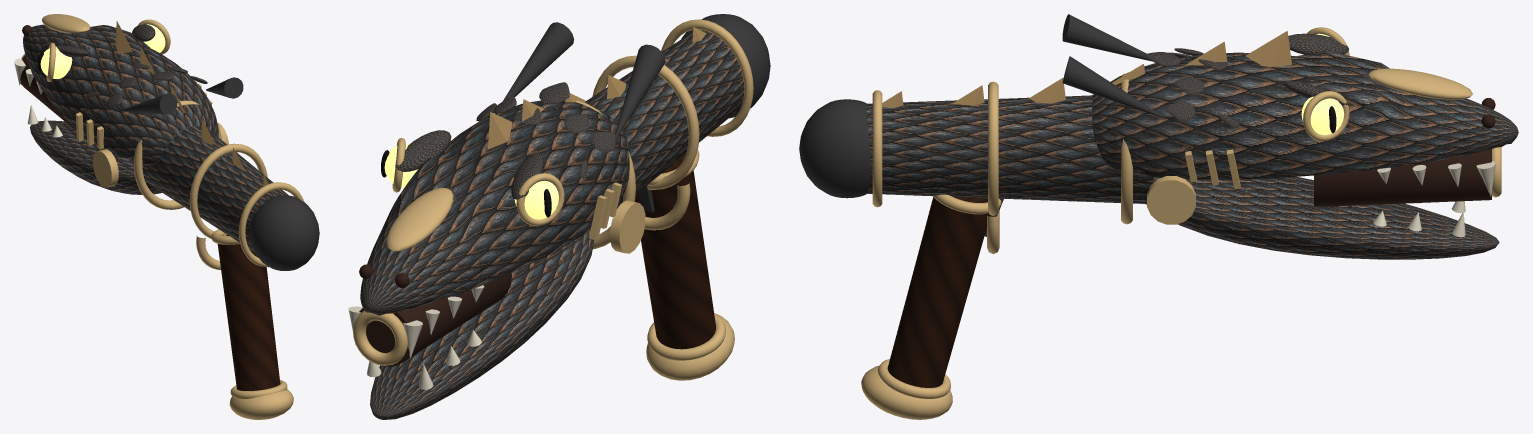
The model's file is wyrmspout.glb.
The picture shows the model from 3 angles, left to right: view 1: azimuth 30°, elevation 25°; view 2: azimuth 150°, elevation 25°; view 3: azimuth 270°, elevation 25°; orthographic projection. The views are drawn at different scales.
Visible parts, largest first — view 1: Head_Skull, Neck_Scales, Grip_Leather, Neck_TailCap, Jaw_Scales, Grip_Pommel, Neck_BrassBand_2, Neck_BrassBand_1, Neck_BrassBand_3, Jaw_HingePin_L, Horn_L, Snout_BrassPlate (+9 smaller); view 2: Head_Skull, Jaw_Scales, Neck_Scales, Grip_Leather, Mouth_Throat, Snout_BrassPlate, Neck_BrassBand_2, Neck_TailCap, Neck_BrassBand_1, Grip_Pommel, Horn_R, Horn_L (+17 smaller); view 3: Head_Skull, Neck_Scales, Jaw_Scales, Grip_Leather, Mouth_Throat, Neck_TailCap, Grip_Pommel, Snout_BrassPlate, Jaw_HingePin_R, Horn_R, Horn_L, Neck_BrassBand_2 (+7 smaller).
Part boxes in pixels (x1=…): Head_Skull: x1=23, y1=24, x2=218, y2=165; Neck_Scales: x1=142, y1=126, x2=288, y2=252; Grip_Leather: x1=217, y1=235, x2=280, y2=390; Neck_TailCap: x1=249, y1=195, x2=319, y2=270; Jaw_Scales: x1=30, y1=120, x2=162, y2=194; Grip_Pommel: x1=229, y1=389, x2=293, y2=419; Neck_BrassBand_2: x1=189, y1=143, x2=267, y2=238; Neck_BrassBand_1: x1=238, y1=182, x2=304, y2=267; Neck_BrassBand_3: x1=133, y1=100, x2=221, y2=209; Jaw_HingePin_L: x1=93, y1=149, x2=118, y2=187; Horn_L: x1=121, y1=93, x2=177, y2=114; Snout_BrassPlate: x1=42, y1=14, x2=90, y2=33; Head_Skull: x1=360, y1=100, x2=630, y2=315; Jaw_Scales: x1=370, y1=230, x2=594, y2=419; Neck_Scales: x1=585, y1=30, x2=744, y2=208; Grip_Leather: x1=634, y1=154, x2=715, y2=349; Mouth_Throat: x1=359, y1=273, x2=511, y2=366; Snout_BrassPlate: x1=386, y1=187, x2=453, y2=251; Neck_BrassBand_2: x1=592, y1=55, x2=699, y2=189; Neck_TailCap: x1=681, y1=14, x2=770, y2=118; Neck_BrassBand_1: x1=661, y1=19, x2=753, y2=136; Grip_Pommel: x1=646, y1=314, x2=734, y2=380; Horn_R: x1=502, y1=22, x2=573, y2=101; Horn_L: x1=615, y1=44, x2=665, y2=139; Head_Skull: x1=1091, y1=51, x2=1518, y2=179; Neck_Scales: x1=866, y1=95, x2=1153, y2=203; Jaw_Scales: x1=1145, y1=176, x2=1499, y2=259; Grip_Leather: x1=887, y1=197, x2=990, y2=387; Mouth_Throat: x1=1314, y1=149, x2=1491, y2=206; Neck_TailCap: x1=799, y1=99, x2=870, y2=198; Grip_Pommel: x1=861, y1=365, x2=952, y2=419; Snout_BrassPlate: x1=1368, y1=68, x2=1472, y2=99; Jaw_HingePin_R: x1=1147, y1=176, x2=1195, y2=224; Horn_R: x1=1062, y1=56, x2=1163, y2=118; Horn_L: x1=1062, y1=14, x2=1151, y2=61; Neck_BrassBand_2: x1=988, y1=81, x2=998, y2=215.
Bounding box in the file's own units: 0.1053 × 0.2373 × 0.404.
11 materials, 2 textured.
